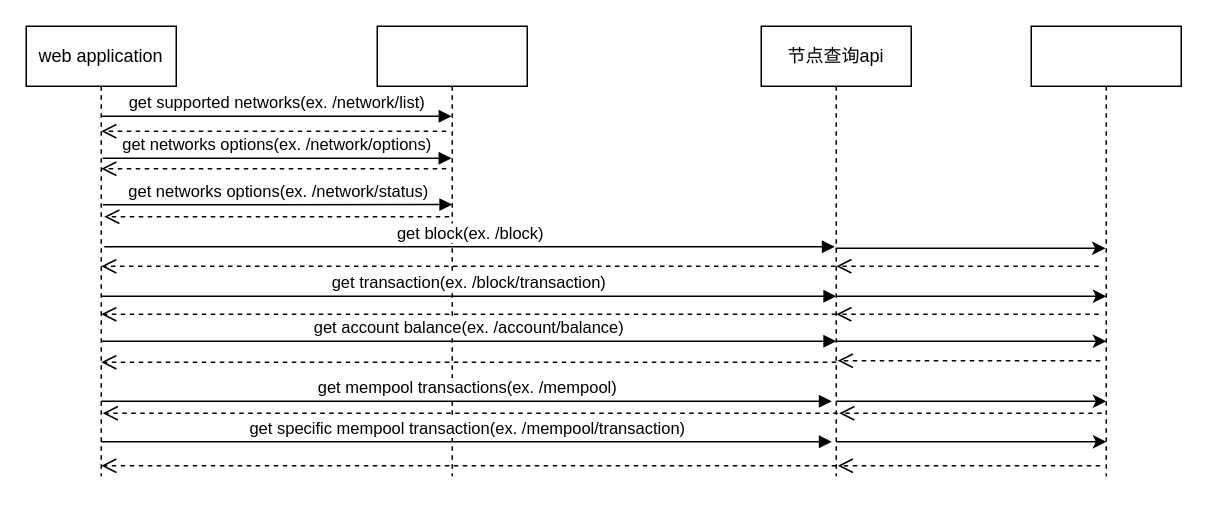
This 1208x507 diagram has some shape labels left out. Each missing label, with the centre of its shape:
"区块链节点" goes at point (1105, 250).
"配置api" goes at point (451, 250).
